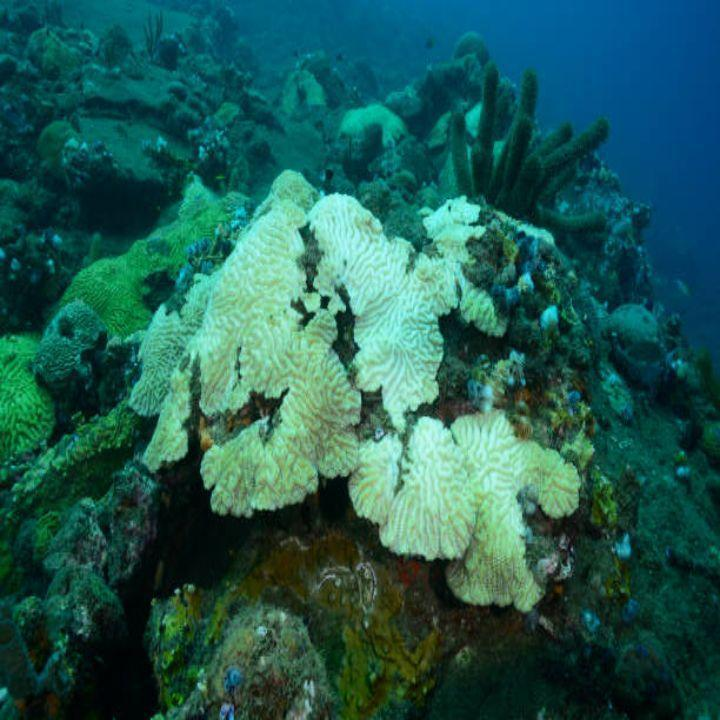Bleached-disease: (94, 106, 669, 638)
